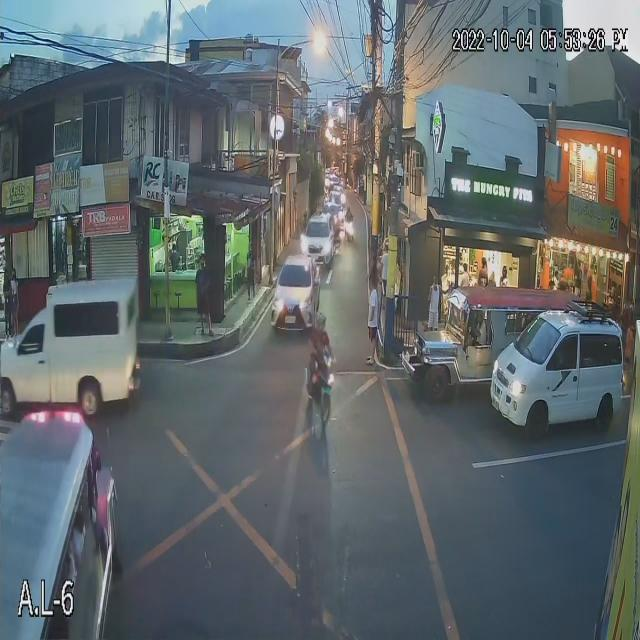helmet: (312, 309, 327, 331)
motorcycle: (304, 349, 335, 425)
rider: (309, 329, 330, 392)
